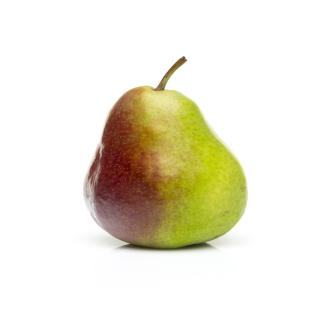Pear: (82, 54, 249, 250)
